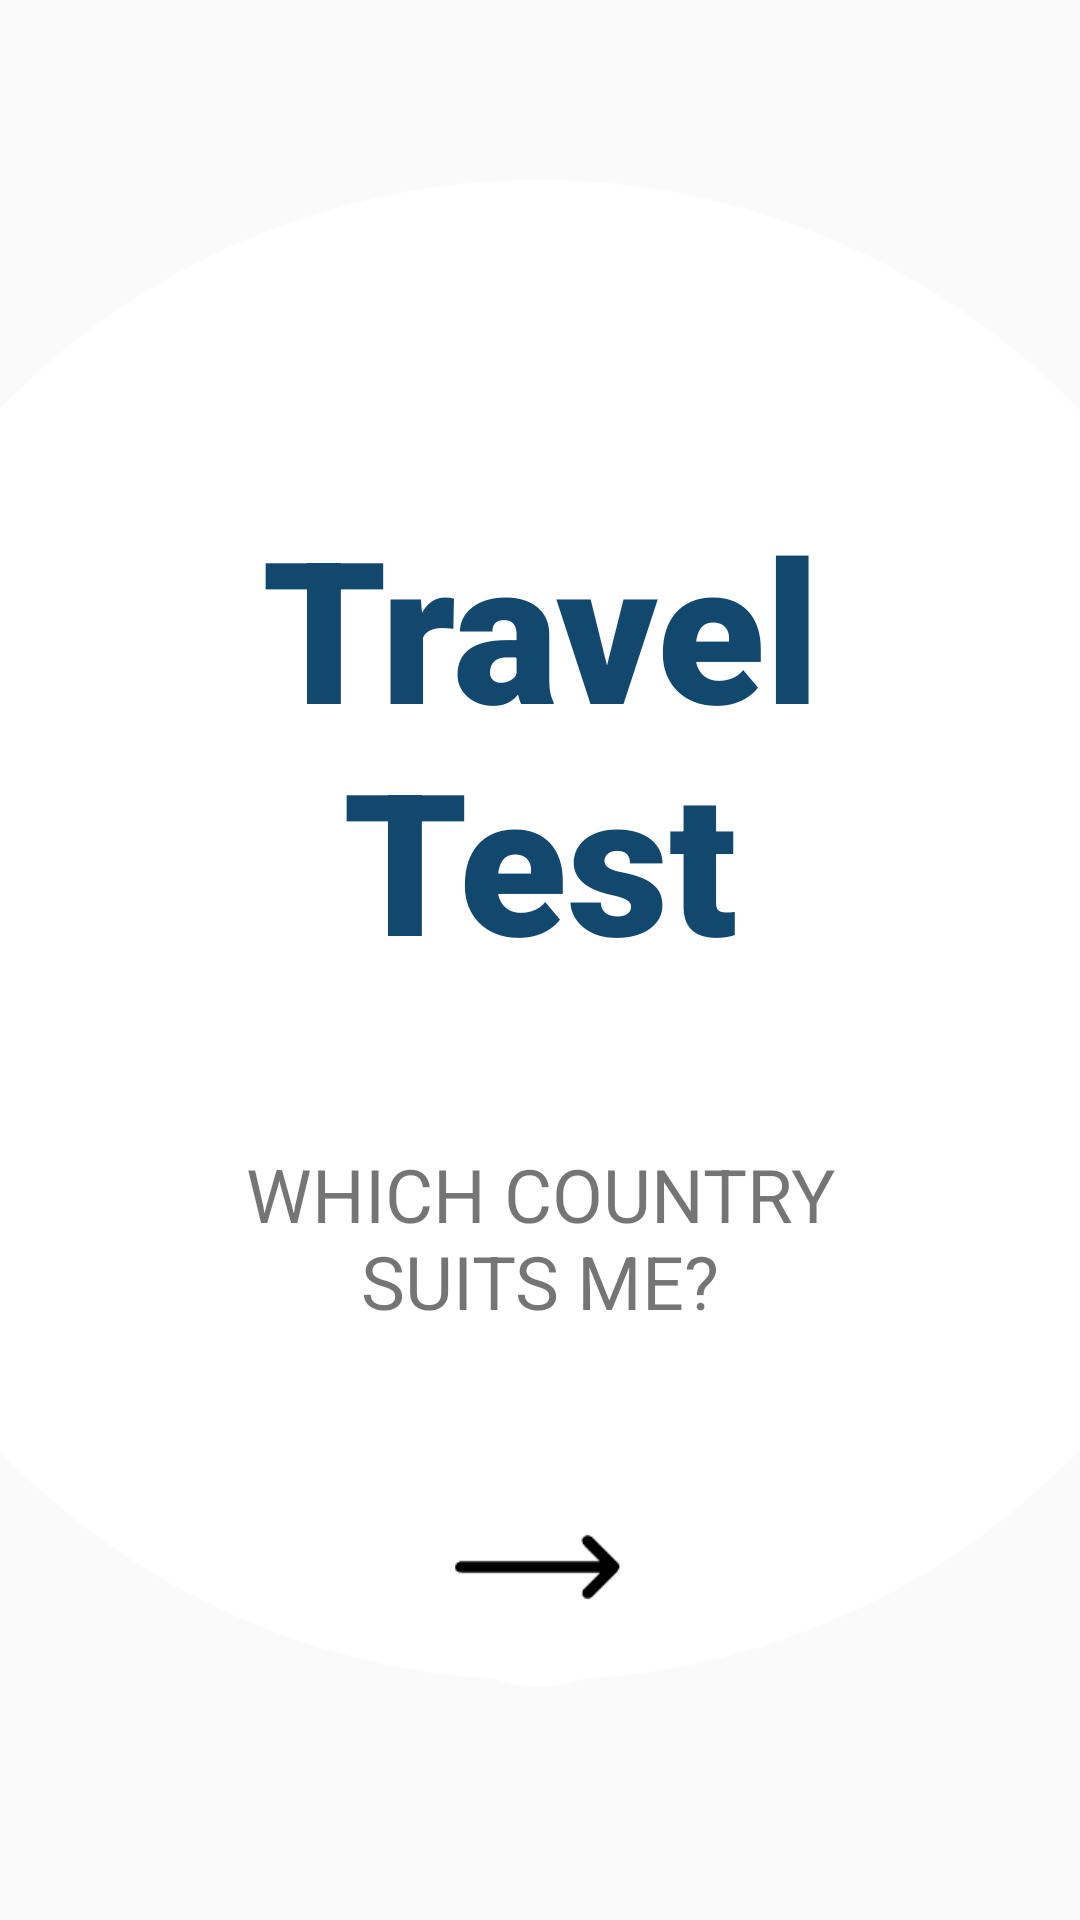

Named icons in this screenshot (1080w x 1920h) and their bounding boxes, (x1, y1, x2, y2):
next: (455, 1535, 620, 1599)
